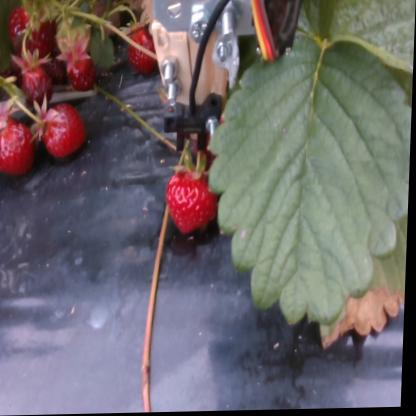ripe: (169, 173, 219, 231), (43, 100, 85, 157), (11, 5, 54, 57), (0, 118, 34, 179), (22, 62, 54, 110), (129, 33, 159, 69), (66, 53, 93, 88)
